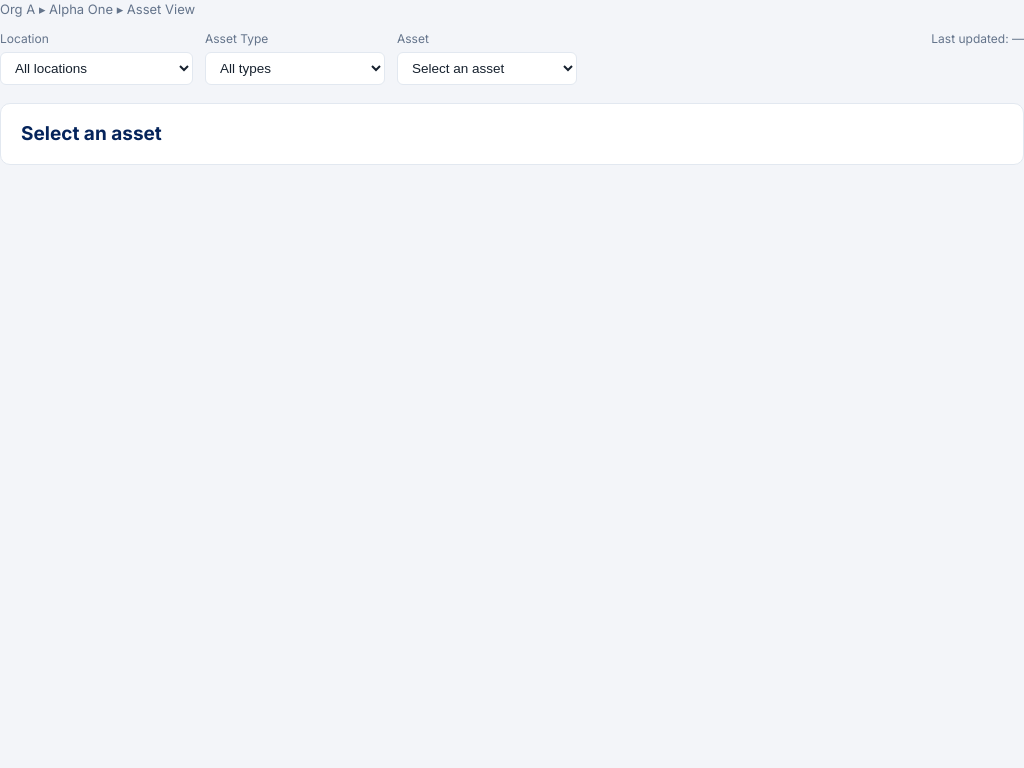
Test: AssetView › conditional measurement visibility › shows every live-parameter tile while still loading/erroring, regardless of evidence
Select "AHU 01" in the dropdown with test id "filter-asset". click: (487, 68)
box: x1=397 y1=52 x2=577 y2=84
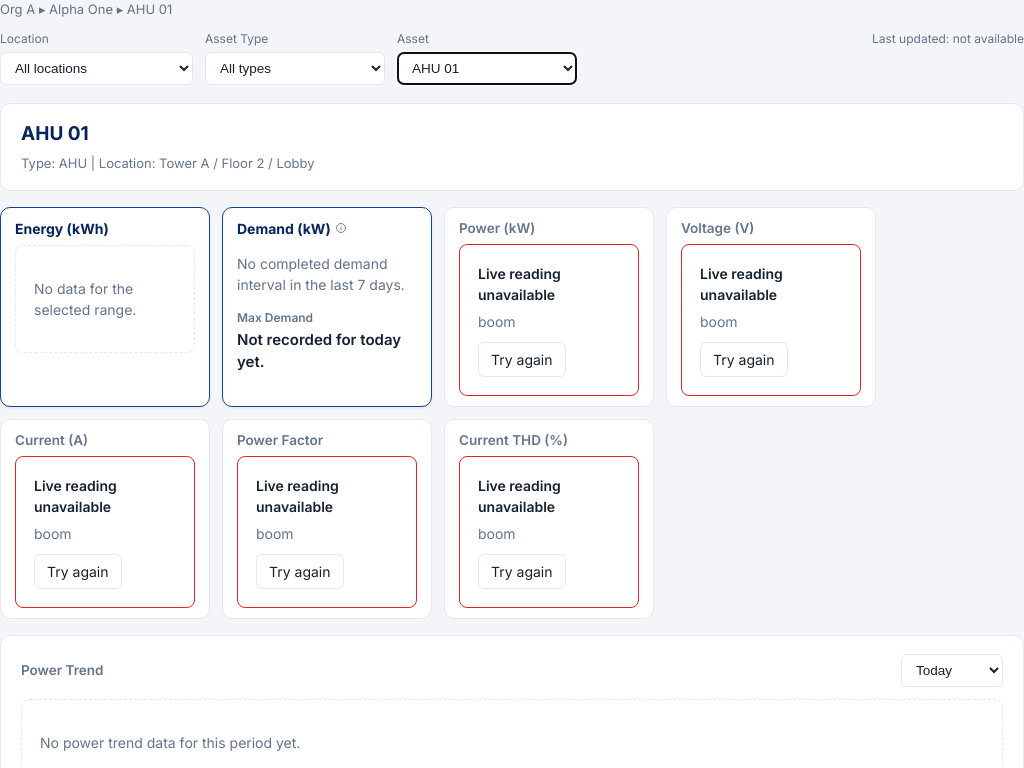
Now the element with test id "live-param-voltage" is shown, box x1=666 y1=206 x2=876 y2=407
Now the element with test id "live-param-current" is shown, box x1=0 y1=419 x2=210 y2=619
